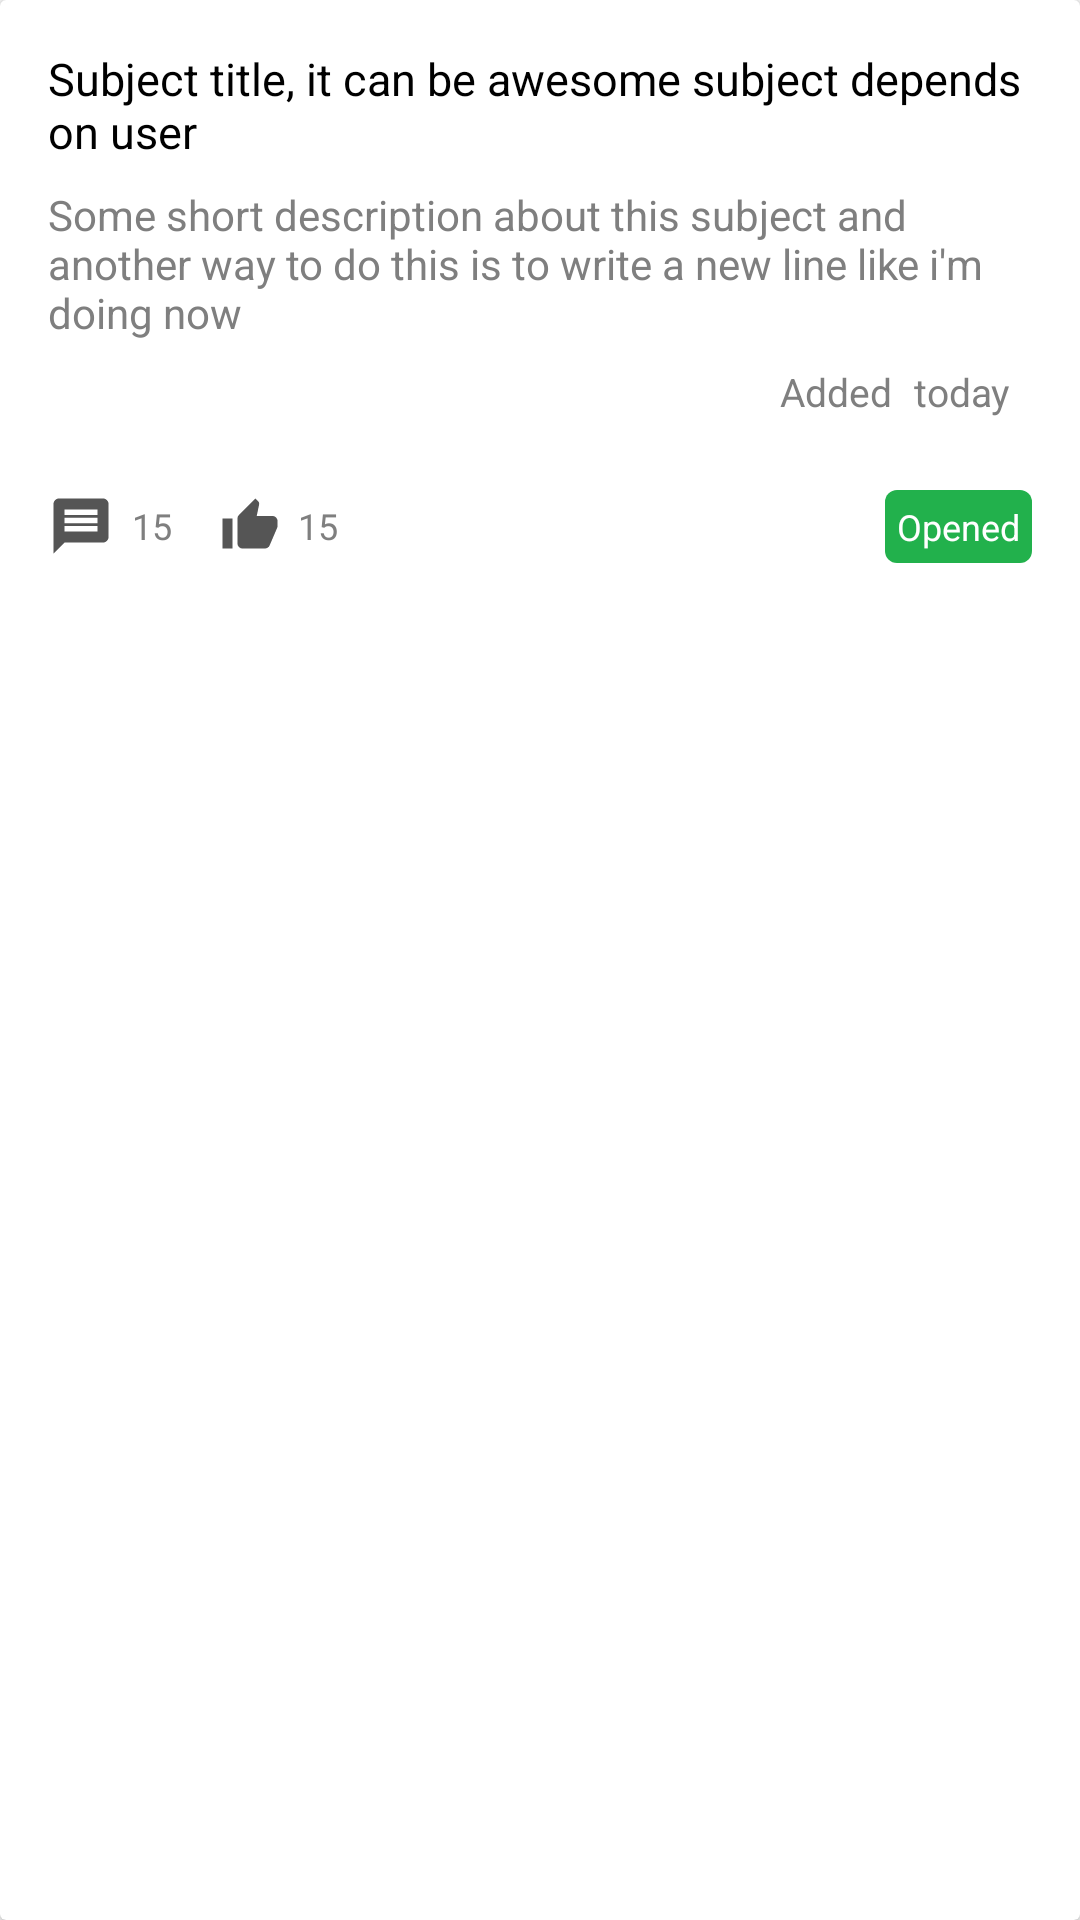

Where icons sit on this 1080x1920 app screen, as bbox(x1, y1, x2, y2):
message: bbox(53, 498, 109, 554)
thumb up: bbox(222, 498, 278, 549)
